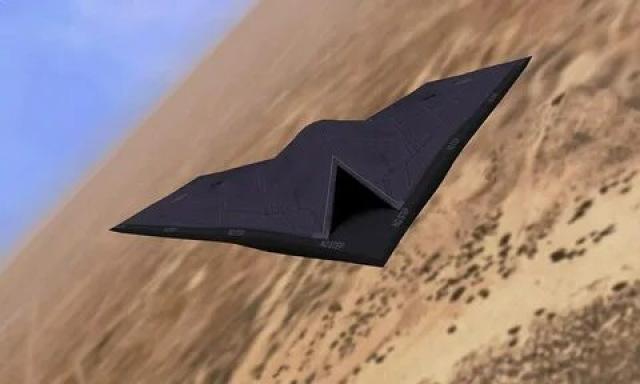military drone: (108, 56, 532, 268)
